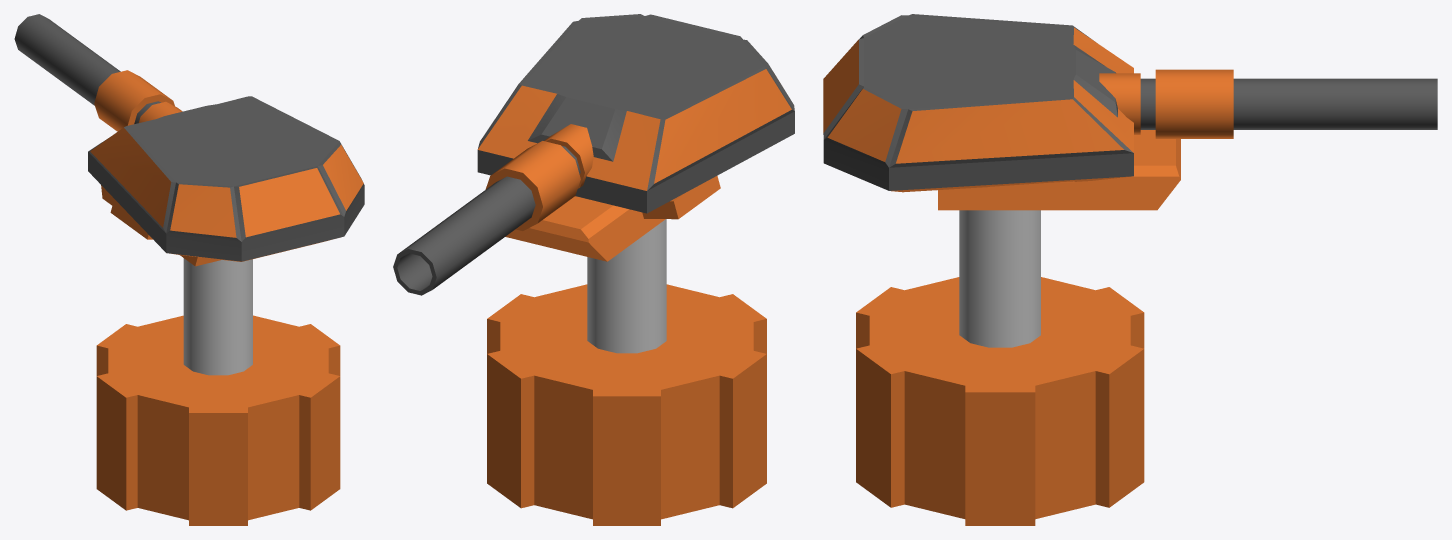
File: Gun_1li.fbx
3 renders of one model, left to right at view 1: azimuth 30°, elevation 25°; view 2: azimuth 150°, elevation 25°; view 3: azimuth 270°, elevation 25°, orthographic. The views are drawn at different scales.
Visible parts, largest first — view 1: PylonElement.006, Turret.006, Pylon.006, Gun.008; view 2: PylonElement.006, Turret.006, Gun.008, Pylon.006; view 3: PylonElement.006, Turret.006, Gun.008, Pylon.006.
Part boxes in pixels (<box>): PylonElement.006: <box>96,315,340,525</box>; Turret.006: <box>88,96,364,266</box>; Pylon.006: <box>183,258,252,375</box>; Gun.008: <box>14,14,174,131</box>; PylonElement.006: <box>487,284,766,525</box>; Turret.006: <box>477,14,794,261</box>; Gun.008: <box>393,141,580,295</box>; Pylon.006: <box>587,219,666,353</box>; PylonElement.006: <box>856,277,1144,525</box>; Turret.006: <box>823,14,1180,210</box>; Gun.008: <box>1140,69,1437,138</box>; Pylon.006: <box>959,210,1040,347</box>.
Size of the model in its own units: 1.16 by 1.77 by 2.44.
